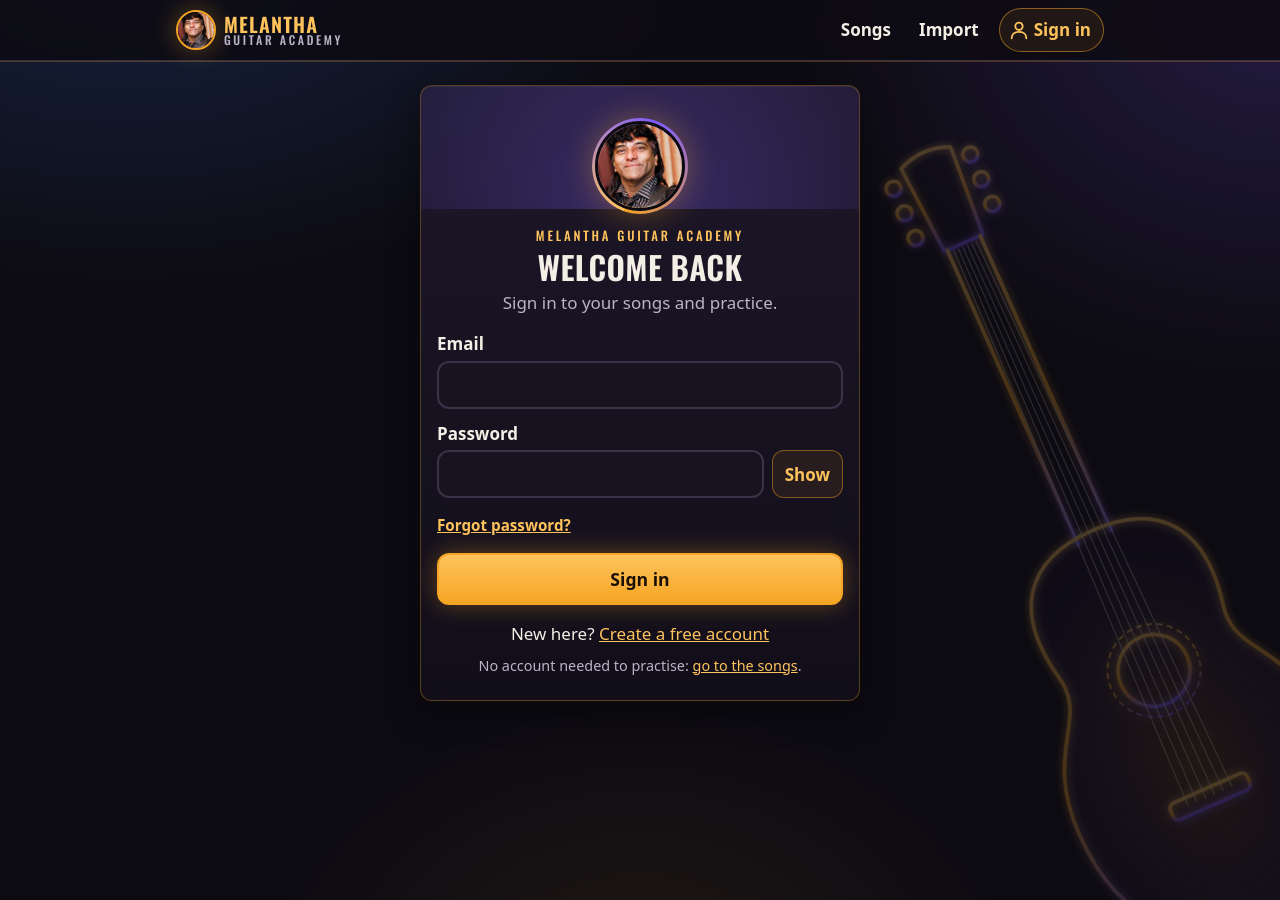
it: accounts › a wrong password keeps you on the page with a clear message
This screenshot has width=1280, height=900.
Type "isura@example.com" into the field labelled "Email" at (640, 385), box 437,361 -> 843,409
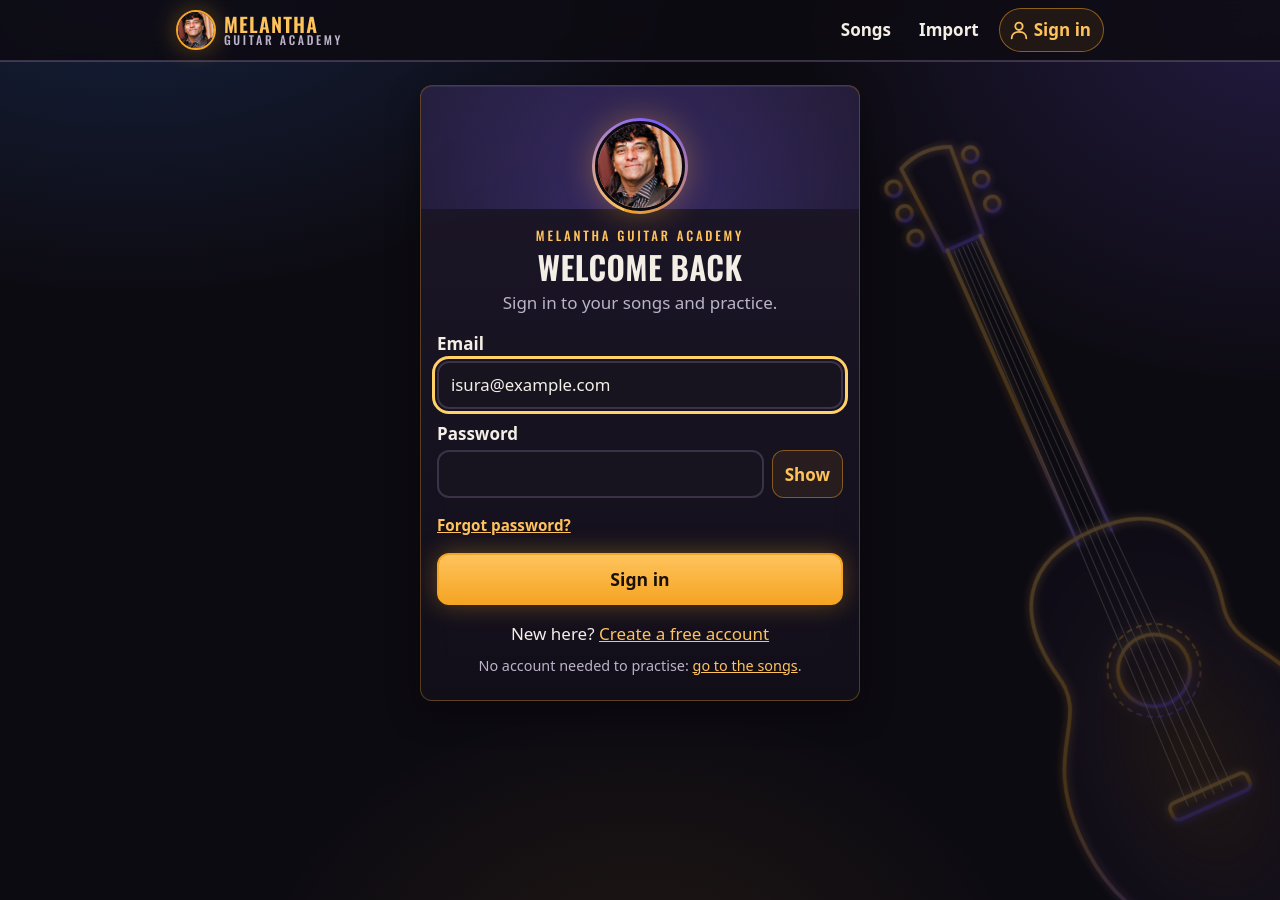
Type "nope-nope" into the password field labelled "Password" at (600, 474), box 437,450 -> 764,498
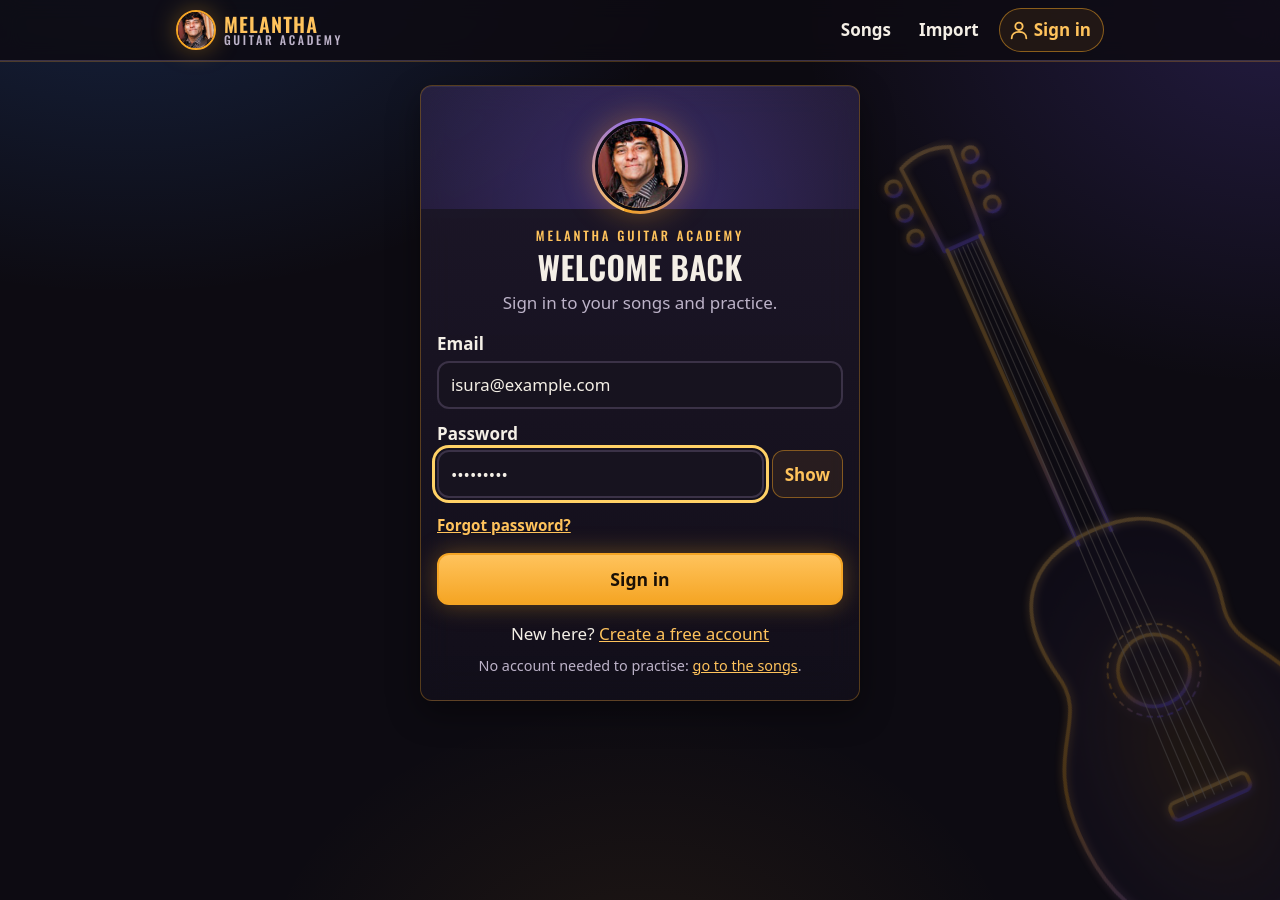
Click the button "Sign in" at (640, 579), box 437,553 -> 843,605
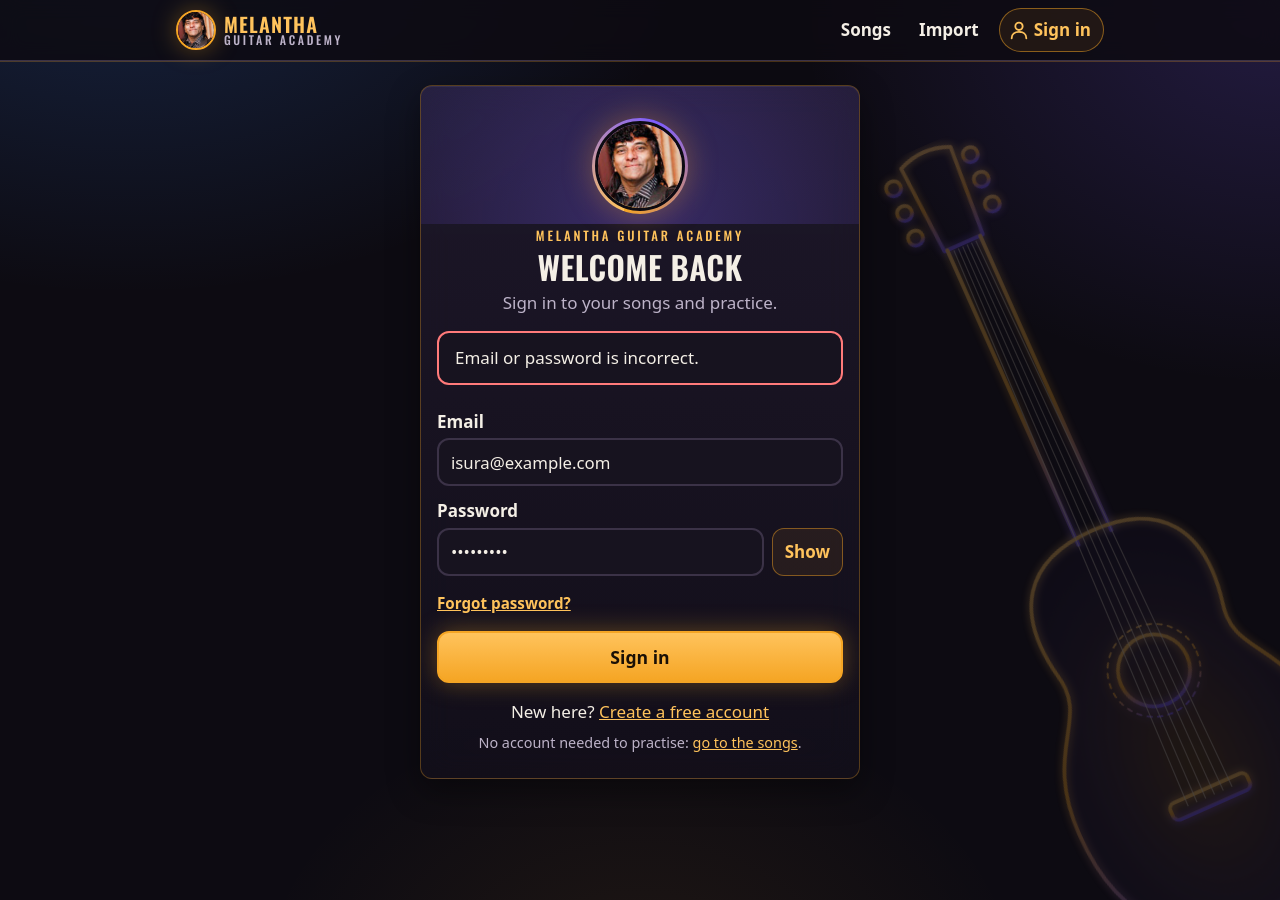
Expected: the heading "Welcome back" is shown, 538,243 -> 742,290
Expected: the message reads "Email or password is incorrect.", 455,346 -> 699,370
